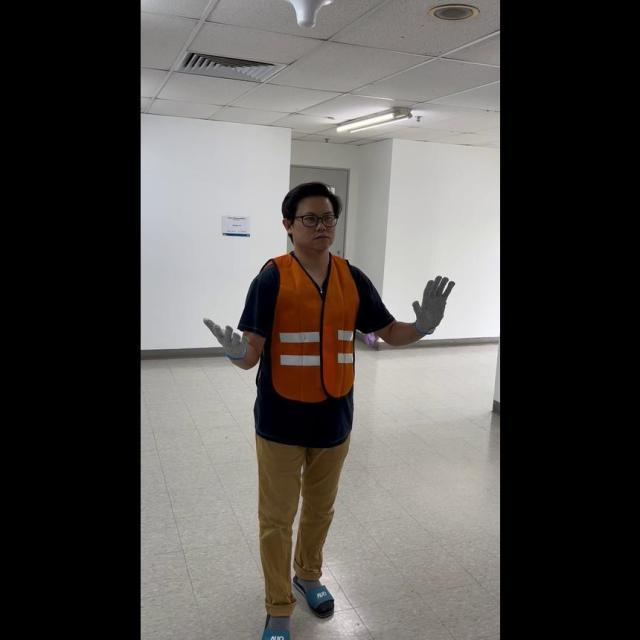gloved_hand: (409, 270, 454, 333), (201, 312, 249, 362)
